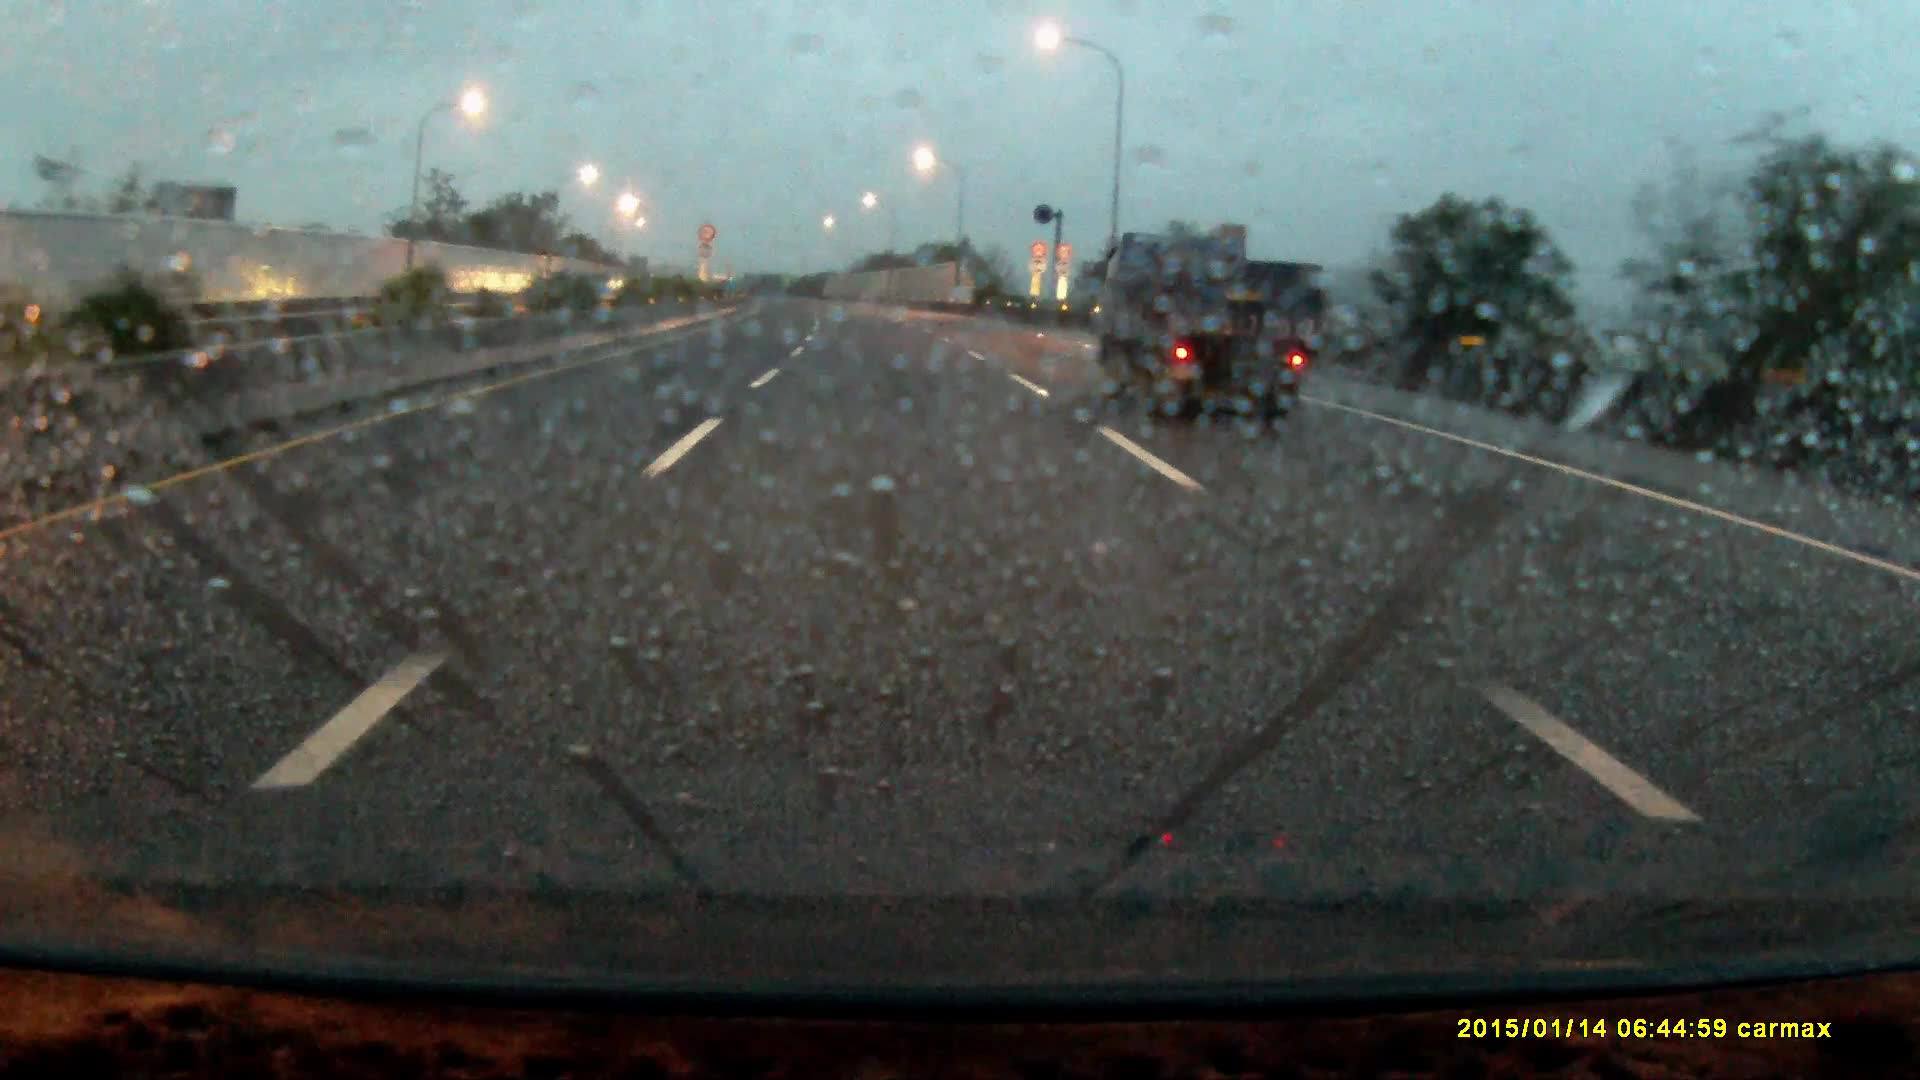vehicle: (1096, 240, 1317, 421)
